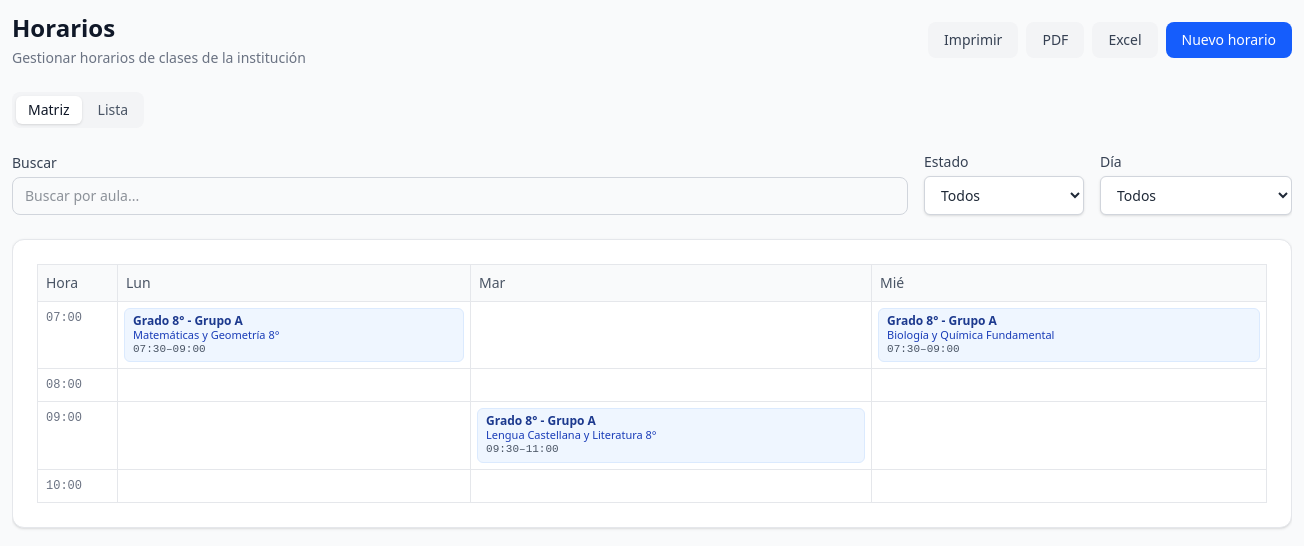
SchedulesPage › shows empty state when no schedules
Step 1. Click the button "Lista" → coordinates (113, 110), box [86,96,140,124]
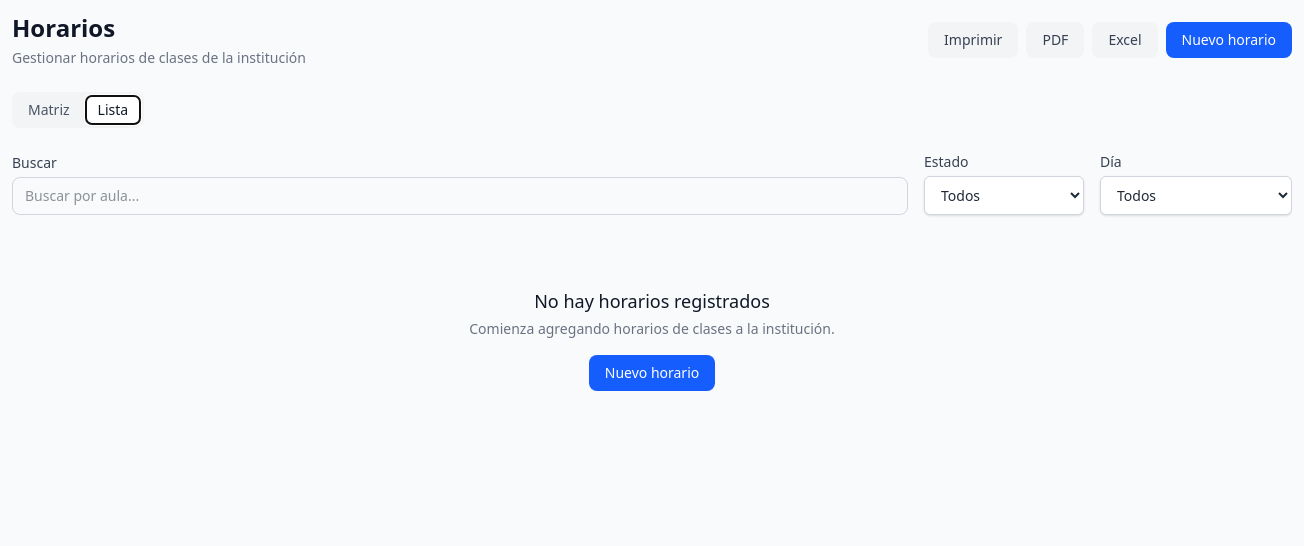
Check: the heading "No hay horarios registrados" is shown, box [534,287,770,315]
